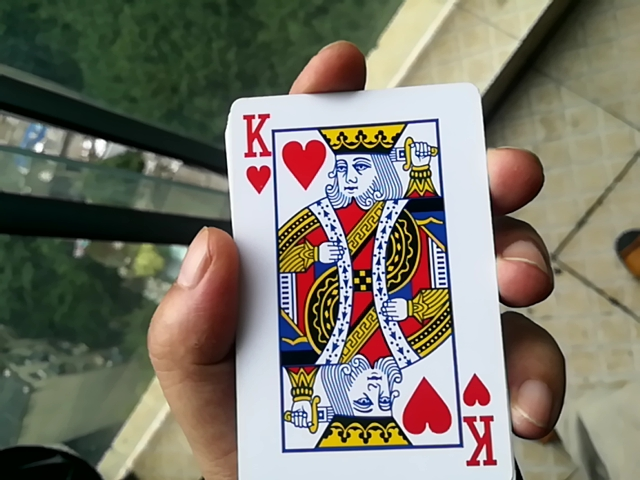hx k: (214, 73, 504, 480)
